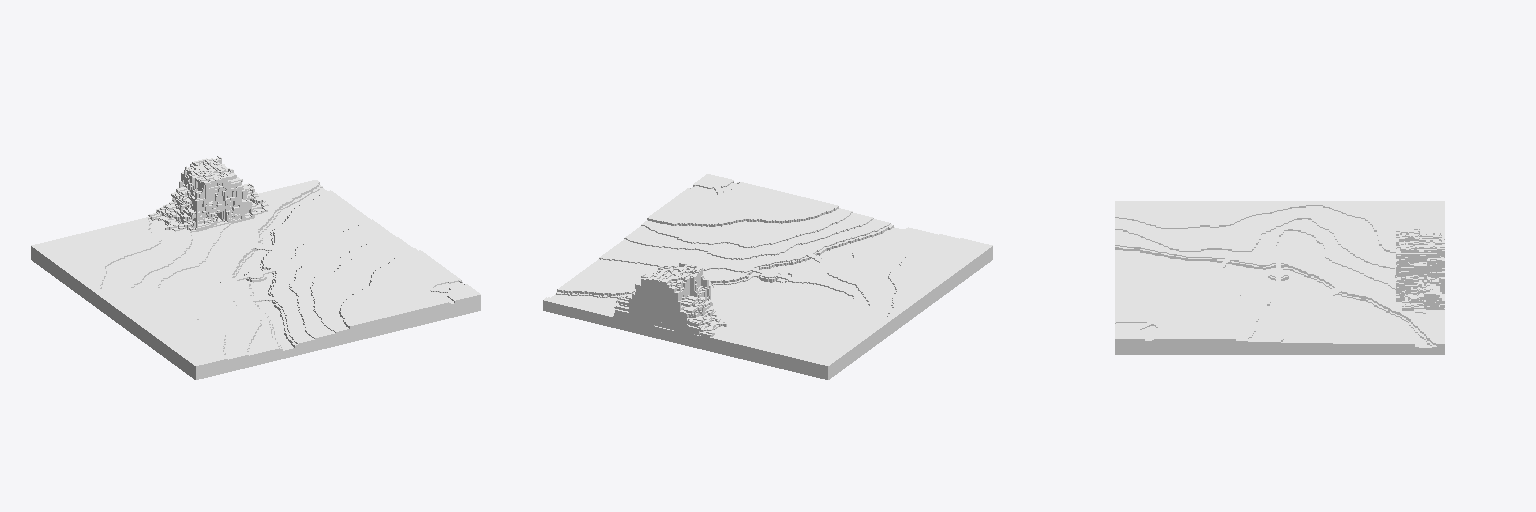
Rendered from lvl-3-Level-2-Map.vox.obj.
3 views of the same model, side by side, from view 1: azimuth 30°, elevation 25°; view 2: azimuth 150°, elevation 25°; view 3: azimuth 270°, elevation 25° (orthographic).
Parts seen in each view (by area): view 1: Level-2-Map; view 2: Level-2-Map; view 3: Level-2-Map.
Part boxes in pixels (x1,y1,x2,y2): Level-2-Map: (31, 156, 480, 379); Level-2-Map: (543, 174, 992, 379); Level-2-Map: (1115, 201, 1444, 354).
Bounding box in the file's own units: 25.6 × 5 × 25.6.